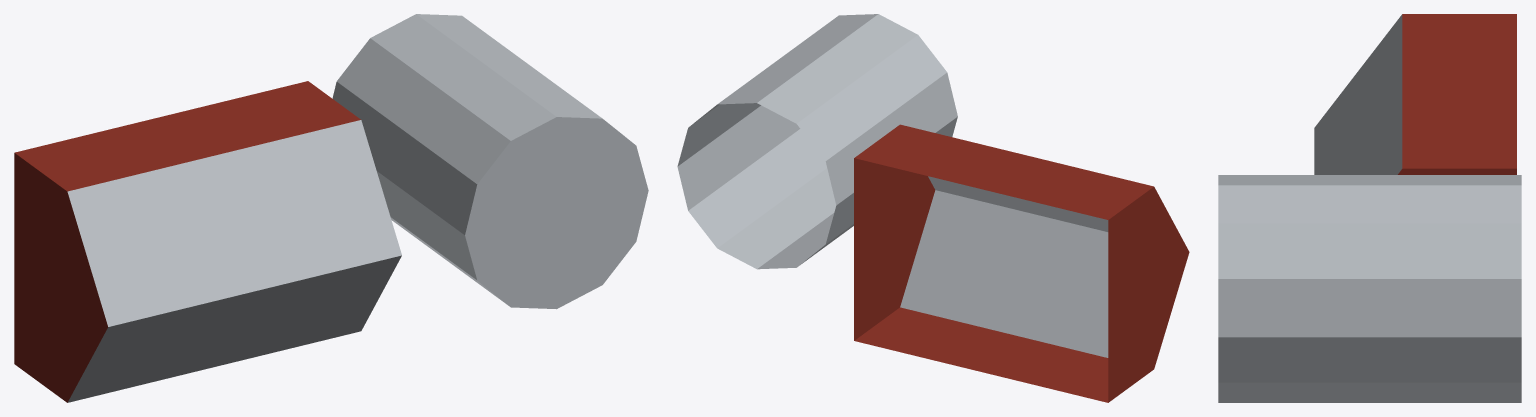
Rendered from island_bldg_15_08.obj.
The picture shows the model from 3 angles, left to right: view 1: azimuth 30°, elevation 25°; view 2: azimuth 150°, elevation 25°; view 3: azimuth 270°, elevation 25°; orthographic projection. The views are drawn at different scales.
Visible parts, largest first — view 1: island_bldg_15_08; view 2: island_bldg_15_08; view 3: island_bldg_15_08.
Boxes of the visible parts, left/top/right/bottom form: island_bldg_15_08: left=14, top=14, right=648, bottom=402; island_bldg_15_08: left=677, top=14, right=1189, bottom=402; island_bldg_15_08: left=1218, top=14, right=1521, bottom=402.
Bounding box in the file's own units: 54 × 26 × 26.53.
